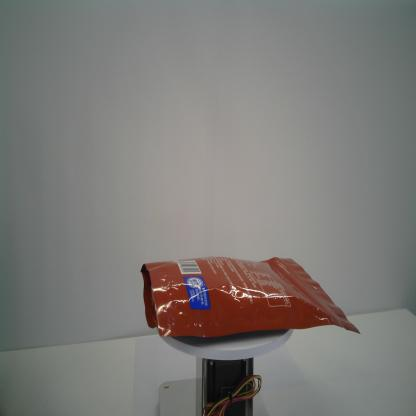Dried Food: (138, 256, 362, 339)
